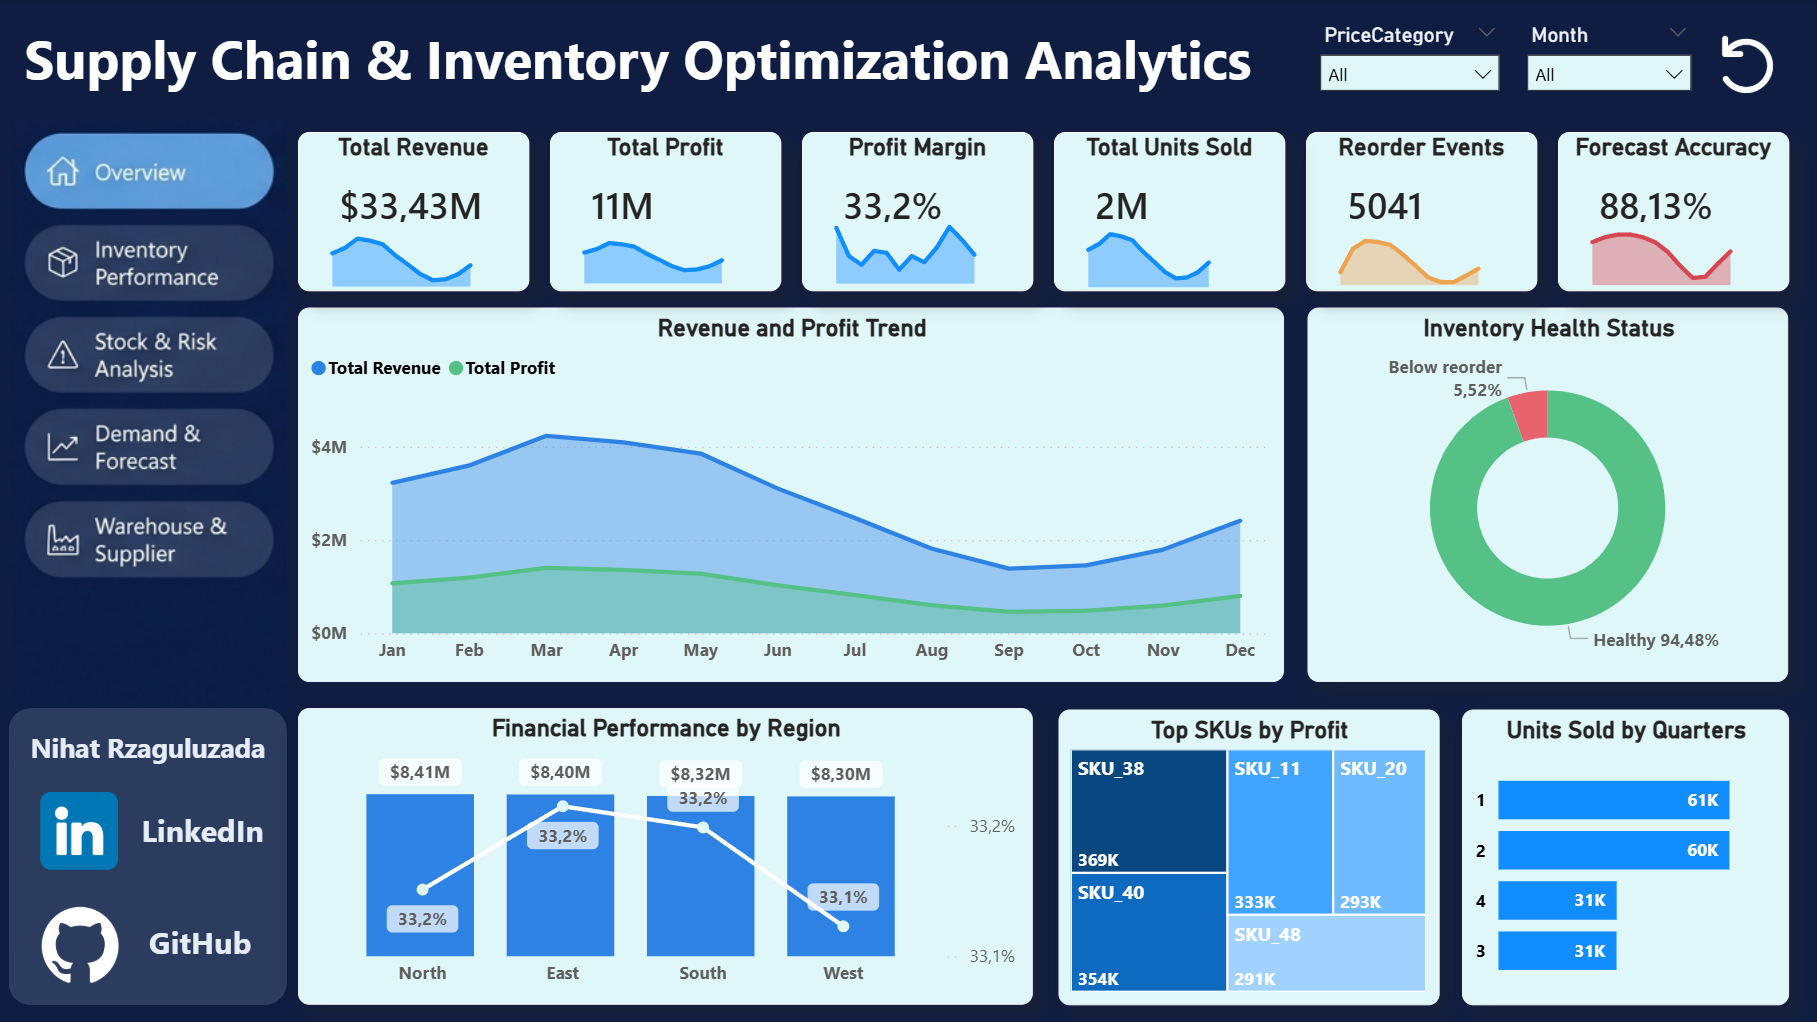

Layout of this report page (visuals, bound fields, positions):
{"tool":"powerbi","page":{"name":"Overview","canvas":[1280,720],"ordinal":0},"visuals":[{"type":"image","box":[7.4,83,196.3,581.6],"z":0},{"type":"shape","box":[7.2,497.8,195.7,209],"z":1000},{"type":"textbox","box":[13.7,10.5,891.2,82.3],"z":2000},{"type":"slicer","fields":{"Values":["dim_date.month"]},"box":[1065.3,10.5,135,70.7],"z":3000},{"type":"lineChart","title":"Revenue and Profit Trend","fields":{"Category":["dim_date.Month_Short"],"Y":["_Measures.Total Revenue","_Measures.Total Profit"]},"box":[211.5,216.3,693.6,263.4],"z":4000},{"type":"donutChart","title":"Inventory Health Status","fields":{"Y":["CountNonNull(fact_inventory_daily.date)"],"Category":["fact_inventory_daily.Inventory Health"]},"box":[920.7,216.3,338.3,263.4],"z":5000},{"type":"lineStackedColumnComboChart","title":"Financial Performance by Region","fields":{"Category":["fact_inventory_daily.region"],"Y":["_Measures.Total Revenue"],"Y2":["_Measures.Profit Margin"]},"box":[211.1,497.8,516.7,208.9],"z":6000},{"type":"treemap","title":"Top SKUs by Profit","fields":{"Values":["_Measures.Total Profit"],"Group":["fact_inventory_daily.sku_id"]},"box":[745.6,498.9,267.8,207.8],"z":7000},{"type":"slicer","fields":{"Values":["fact_inventory_daily.Price Category"]},"box":[919.5,10.9,146.2,70.1],"z":8000},{"type":"lineChart","fields":{"Y":["_Measures.Total Profit"],"Category":["dim_date.month"]},"box":[391.5,136.5,161.9,65.2],"z":9000},{"type":"shape","box":[210.9,92.8,162.4,111.8],"z":10000},{"type":"cardVisual","title":"Total Revenue","fields":{"Data":["_Measures.Total Revenue"]},"box":[210.9,92.8,162.4,81.2],"z":11000},{"type":"lineChart","fields":{"Category":["dim_date.month"],"Y":["_Measures.Total Revenue"]},"box":[210.9,145.5,162.4,61.2],"z":12000},{"type":"shape","box":[388.1,92.8,162.4,111.8],"z":13000},{"type":"shape","box":[565.3,92.8,162.4,111.8],"z":14000},{"type":"shape","box":[919.7,92.8,162.4,111.8],"z":15000},{"type":"shape","box":[1096.9,92.8,162.4,111.8],"z":16000},{"type":"shape","box":[742.5,92.8,162.4,111.8],"z":17000},{"type":"cardVisual","title":"Total Profit","fields":{"Data":["_Measures.Total Profit"]},"box":[388.1,92.8,162.4,81.2],"z":18000},{"type":"lineChart","fields":{"Category":["dim_date.month"],"Y":["_Measures.Total Profit"]},"box":[387.9,145,161.9,60.4],"z":19000},{"type":"lineChart","fields":{"Category":["dim_date.month"],"Y":["_Measures.Profit Margin"]},"box":[565.3,143.4,162.4,61.2],"z":20000},{"type":"cardVisual","title":"Profit Margin","fields":{"Data":["_Measures.Profit Margin"]},"box":[565.3,92.8,162.4,81.2],"z":21000},{"type":"cardVisual","title":"Total Units Sold","fields":{"Data":["_Measures.Total Units Sold"]},"box":[742.5,92.8,162.4,81.2],"z":22000},{"type":"lineChart","fields":{"Category":["dim_date.month"],"Y":["_Measures.Total Units Sold"]},"box":[743.6,146.6,145.5,60.1],"z":23000},{"type":"cardVisual","title":"Reorder Events","fields":{"Data":["_Measures.Reorder Events"]},"box":[919.7,92.8,162.4,81.2],"z":24000},{"type":"lineChart","fields":{"Category":["dim_date.month"],"Y":["_Measures.Reorder Events"]},"box":[919.7,144.5,162.4,61.2],"z":25000},{"type":"lineChart","fields":{"Category":["dim_date.month"],"Y":["_Measures.Forecast Accuracy %"]},"box":[1096.9,144.5,162.4,61.2],"z":26000},{"type":"cardVisual","title":"Forecast Accuracy","fields":{"Data":["_Measures.Forecast Accuracy %"]},"box":[1096.9,92.8,162.4,81.2],"z":27000},{"type":"shape","box":[12.7,92.8,188.8,57],"z":28000},{"type":"shape","box":[17.9,224.7,178.2,53.8],"z":29000},{"type":"shape","box":[10.5,285.8,189.8,53.8],"z":30000},{"type":"shape","box":[14.7,352,186.5,54],"z":31000},{"type":"shape","box":[18.4,94.5,177.9,55.2],"z":32000},{"type":"shape","box":[66.5,685.1,23,23],"z":33000},{"type":"shape","box":[18.4,94,177.9,54],"z":34000},{"type":"shape","box":[17.2,155.8,177.9,54],"z":35000},{"type":"image","box":[27.8,636.8,60.4,54.4],"z":36000},{"type":"image","box":[26.6,557,61.6,54.4],"z":37000},{"type":"textbox","box":[18.1,507.5,177.6,41.1],"z":38000},{"type":"textbox","box":[95.5,563.1,105.1,42.3],"z":39000},{"type":"textbox","box":[101.5,642.8,95.5,42.3],"z":40000},{"type":"image","box":[1199.2,21.1,60.1,50.6],"z":41000},{"type":"clusteredBarChart","title":"Units Sold by Quarters","fields":{"Y":["_Measures.Total Units Sold"],"Category":["dim_date.quarter"]},"box":[1028.9,498.9,230,207.8],"z":42000}]}

Visuals, with their boxes in screenshot pixels (x1, y1, x2, y2), scaled from the page's 1280x720 canvas onto the 1817x1022 screenshot:
image: pyautogui.locateOnScreen(11, 118, 289, 943)
shape: pyautogui.locateOnScreen(10, 707, 288, 1003)
textbox: pyautogui.locateOnScreen(19, 15, 1285, 132)
slicer - dim_date.month: pyautogui.locateOnScreen(1512, 15, 1704, 115)
"Revenue and Profit Trend" lineChart: pyautogui.locateOnScreen(300, 307, 1285, 681)
"Inventory Health Status" donutChart: pyautogui.locateOnScreen(1307, 307, 1787, 681)
"Financial Performance by Region" lineStackedColumnComboChart: pyautogui.locateOnScreen(300, 707, 1033, 1003)
"Top SKUs by Profit" treemap: pyautogui.locateOnScreen(1058, 708, 1439, 1003)
slicer - fact_inventory_daily.Price Category: pyautogui.locateOnScreen(1305, 15, 1513, 115)
lineChart - _Measures.Total Profit x dim_date.month: pyautogui.locateOnScreen(556, 194, 786, 286)
shape: pyautogui.locateOnScreen(299, 132, 530, 290)
"Total Revenue" cardVisual: pyautogui.locateOnScreen(299, 132, 530, 247)
lineChart - dim_date.month x _Measures.Total Revenue: pyautogui.locateOnScreen(299, 207, 530, 293)
shape: pyautogui.locateOnScreen(551, 132, 781, 290)
shape: pyautogui.locateOnScreen(802, 132, 1033, 290)
shape: pyautogui.locateOnScreen(1306, 132, 1536, 290)
shape: pyautogui.locateOnScreen(1557, 132, 1788, 290)
shape: pyautogui.locateOnScreen(1054, 132, 1285, 290)
"Total Profit" cardVisual: pyautogui.locateOnScreen(551, 132, 781, 247)
lineChart - dim_date.month x _Measures.Total Profit: pyautogui.locateOnScreen(551, 206, 780, 292)
lineChart - dim_date.month x _Measures.Profit Margin: pyautogui.locateOnScreen(802, 204, 1033, 290)
"Profit Margin" cardVisual: pyautogui.locateOnScreen(802, 132, 1033, 247)
"Total Units Sold" cardVisual: pyautogui.locateOnScreen(1054, 132, 1285, 247)
lineChart - dim_date.month x _Measures.Total Units Sold: pyautogui.locateOnScreen(1056, 208, 1262, 293)
"Reorder Events" cardVisual: pyautogui.locateOnScreen(1306, 132, 1536, 247)
lineChart - dim_date.month x _Measures.Reorder Events: pyautogui.locateOnScreen(1306, 205, 1536, 292)
lineChart - dim_date.month x _Measures.Forecast Accuracy %: pyautogui.locateOnScreen(1557, 205, 1788, 292)
"Forecast Accuracy" cardVisual: pyautogui.locateOnScreen(1557, 132, 1788, 247)
shape: pyautogui.locateOnScreen(18, 132, 286, 213)
shape: pyautogui.locateOnScreen(25, 319, 278, 395)
shape: pyautogui.locateOnScreen(15, 406, 284, 482)
shape: pyautogui.locateOnScreen(21, 500, 286, 576)
shape: pyautogui.locateOnScreen(26, 134, 279, 212)
shape: pyautogui.locateOnScreen(94, 972, 127, 1005)
shape: pyautogui.locateOnScreen(26, 133, 279, 210)
shape: pyautogui.locateOnScreen(24, 221, 277, 298)
image: pyautogui.locateOnScreen(39, 904, 125, 981)
image: pyautogui.locateOnScreen(38, 791, 125, 868)
textbox: pyautogui.locateOnScreen(26, 720, 278, 779)
textbox: pyautogui.locateOnScreen(136, 799, 285, 859)
textbox: pyautogui.locateOnScreen(144, 912, 280, 972)
image: pyautogui.locateOnScreen(1702, 30, 1788, 102)
"Units Sold by Quarters" clusteredBarChart: pyautogui.locateOnScreen(1461, 708, 1787, 1003)
